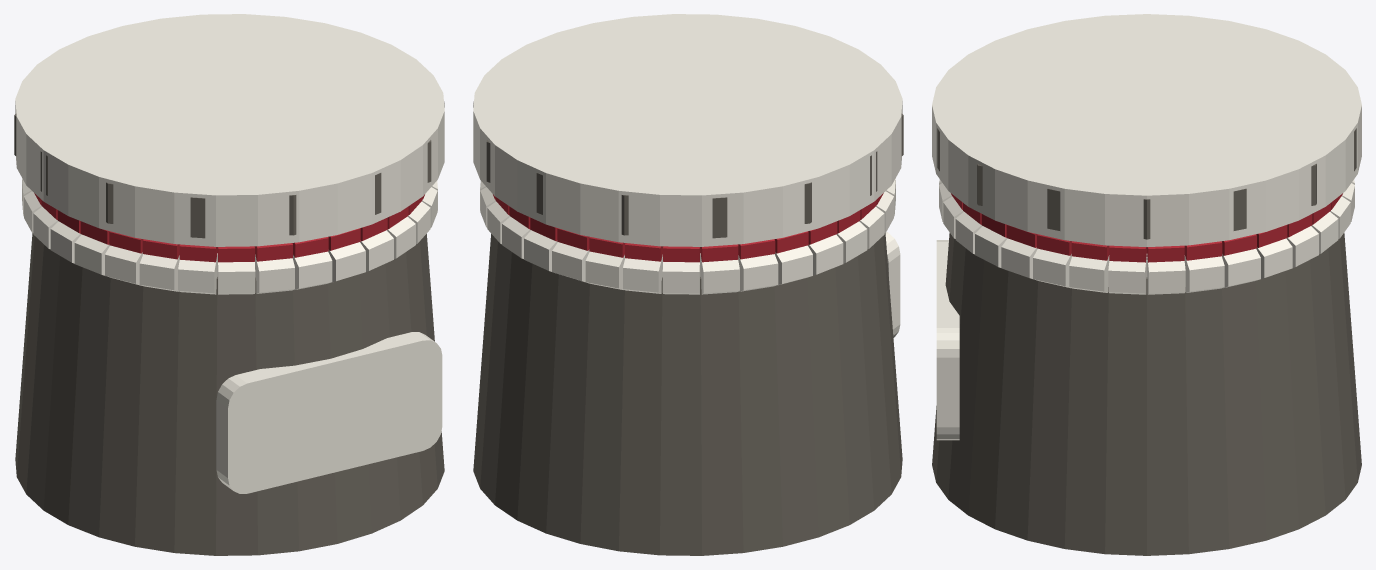
File: sealjar.glb
3 views of the same model, side by side, from view 1: azimuth 30°, elevation 25°; view 2: azimuth 150°, elevation 25°; view 3: azimuth 270°, elevation 25° (orthographic).
Visible parts, largest first — view 1: jar base, lid, label, shoulder11, shoulder9, shoulder12, shoulder10, shoulder8, shoulder13, shoulder7, shoulder14, shoulder6 (+10 smaller); view 2: jar base, lid, shoulder20, shoulder22, shoulder19, shoulder21, shoulder23, shoulder18, label, shoulder24, shoulder17, shoulder25 (+10 smaller); view 3: jar base, lid, label, shoulder1, shoulder30, shoulder0, shoulder31, shoulder2, shoulder29, shoulder3, shoulder28, shoulder4 (+11 smaller).
Part boxes in pixels (bbox=[...]): jar base: bbox=[15, 233, 444, 555]; lid: bbox=[15, 14, 444, 246]; label: bbox=[216, 332, 442, 493]; shoulder11: bbox=[178, 254, 217, 294]; shoulder9: bbox=[255, 254, 294, 293]; shoulder12: bbox=[139, 254, 179, 291]; shoulder10: bbox=[217, 253, 255, 294]; shoulder8: bbox=[292, 251, 332, 289]; shoulder13: bbox=[105, 245, 143, 285]; shoulder7: bbox=[328, 242, 365, 283]; shoulder14: bbox=[74, 234, 109, 275]; shoulder6: bbox=[360, 230, 393, 271]; jar base: bbox=[473, 233, 902, 555]; lid: bbox=[473, 14, 902, 246]; shoulder20: bbox=[700, 254, 739, 294]; shoulder22: bbox=[623, 254, 662, 293]; shoulder19: bbox=[738, 254, 778, 291]; shoulder21: bbox=[662, 253, 700, 294]; shoulder23: bbox=[585, 251, 625, 289]; shoulder18: bbox=[774, 245, 812, 285]; label: bbox=[885, 232, 900, 337]; shoulder24: bbox=[552, 242, 589, 283]; shoulder17: bbox=[808, 234, 843, 275]; shoulder25: bbox=[524, 230, 557, 271]; jar base: bbox=[932, 233, 1361, 555]; lid: bbox=[932, 14, 1361, 246]; label: bbox=[936, 240, 959, 440]; shoulder1: bbox=[1069, 255, 1109, 292]; shoulder30: bbox=[1184, 255, 1224, 292]; shoulder0: bbox=[1108, 254, 1146, 294]; shoulder31: bbox=[1147, 254, 1185, 294]; shoulder2: bbox=[1033, 248, 1071, 288]; shoulder29: bbox=[1222, 248, 1260, 288]; shoulder3: bbox=[1001, 238, 1037, 278]; shoulder28: bbox=[1256, 238, 1292, 278]; shoulder4: bbox=[975, 226, 1007, 267].
Size of the model in its own units: 1.06 by 0.98 by 1.06.
